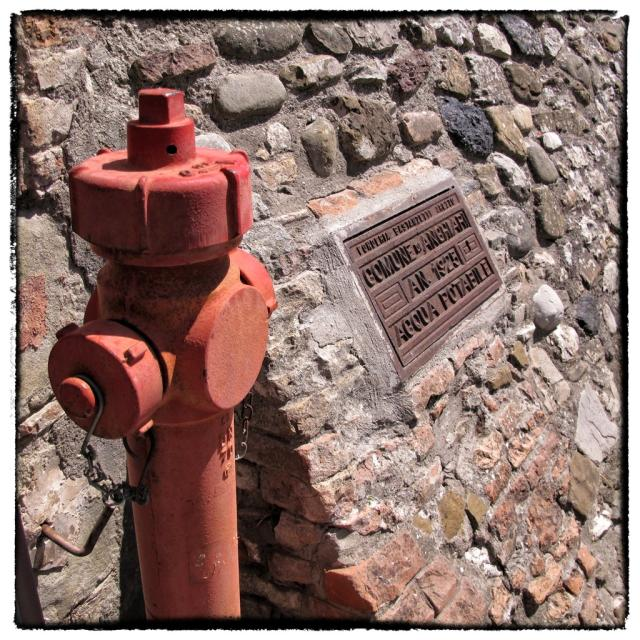fire_hydrant: (47, 86, 277, 622)
